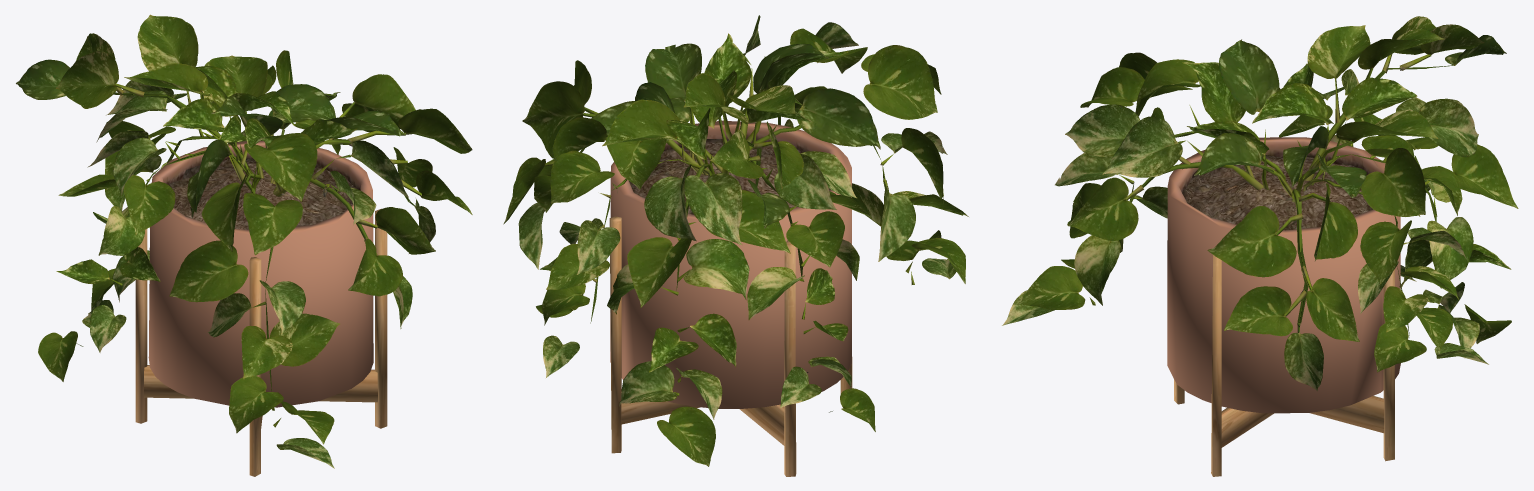
Rendered from money_plant_pot.glb.
3 views of the same model, side by side, from view 1: azimuth 30°, elevation 25°; view 2: azimuth 150°, elevation 25°; view 3: azimuth 270°, elevation 25° (orthographic). The views are drawn at different scales.
Visible parts, largest first — view 1: POTHOS_POTHOS_Mat_0, POT_WOOD_LEGS_WOODEN_LEGS_POT_0; view 2: POTHOS_POTHOS_Mat_0, POT_WOOD_LEGS_WOODEN_LEGS_POT_0; view 3: POTHOS_POTHOS_Mat_0, POT_WOOD_LEGS_WOODEN_LEGS_POT_0.
Boxes of the visible parts, box(x1,y1,x2,y2) form: POTHOS_POTHOS_Mat_0: box(16, 14, 472, 468); POT_WOOD_LEGS_WOODEN_LEGS_POT_0: box(135, 141, 387, 476); POTHOS_POTHOS_Mat_0: box(503, 15, 968, 466); POT_WOOD_LEGS_WOODEN_LEGS_POT_0: box(609, 120, 852, 476); POTHOS_POTHOS_Mat_0: box(1002, 16, 1518, 391); POT_WOOD_LEGS_WOODEN_LEGS_POT_0: box(1167, 137, 1400, 476).
Size of the model in its own units: 0.6259 by 0.5994 by 0.7383.
Materials: 2 (2 with a texture image).
